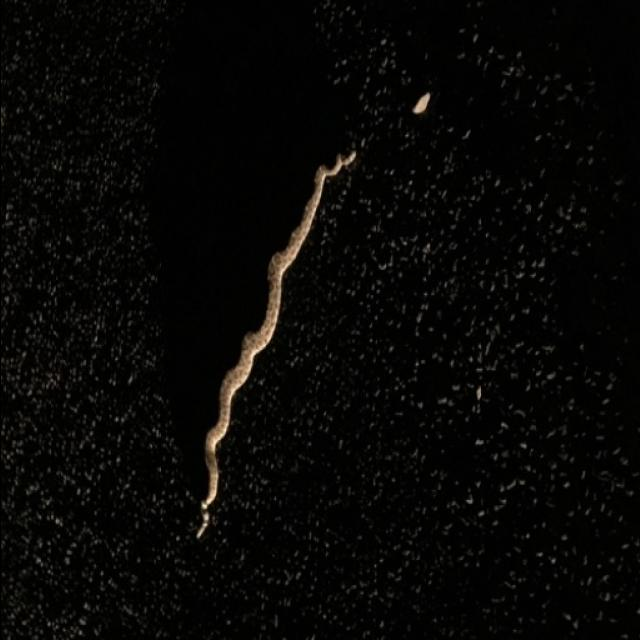snake: (179, 142, 371, 558)
